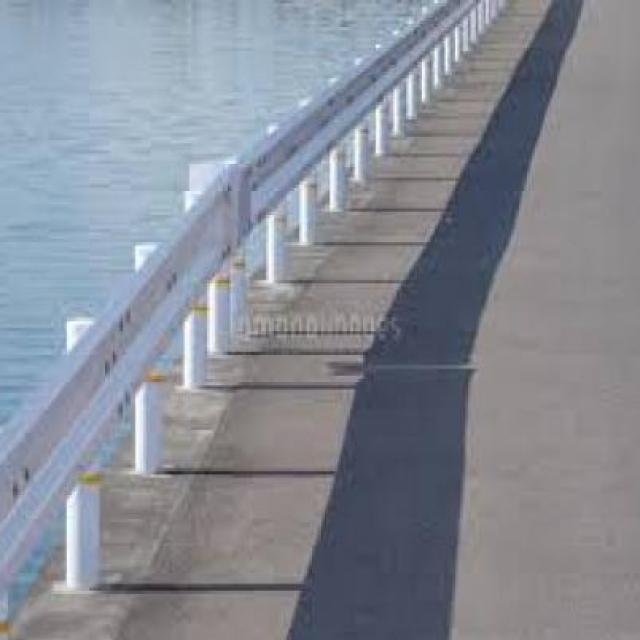Guard rail: (0, 0, 508, 640)
